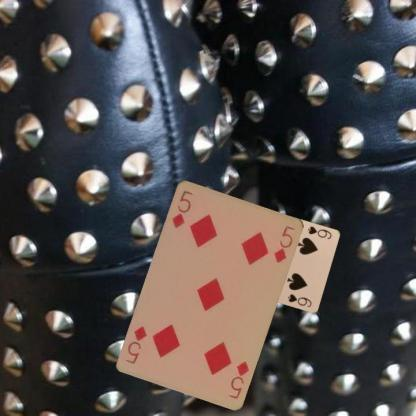5d: (169, 188, 194, 230), (226, 358, 250, 400)
6s: (305, 224, 333, 240)
